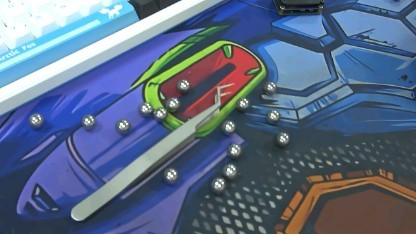ironball: (26, 110, 45, 130), (274, 128, 292, 148), (233, 94, 252, 112), (261, 76, 279, 94), (224, 140, 243, 157), (217, 118, 234, 136), (208, 174, 225, 191), (220, 162, 238, 178), (173, 79, 193, 93), (82, 113, 98, 130), (162, 94, 180, 109), (162, 166, 177, 183), (263, 109, 279, 123), (115, 117, 129, 132), (152, 105, 166, 119), (137, 101, 151, 115)
